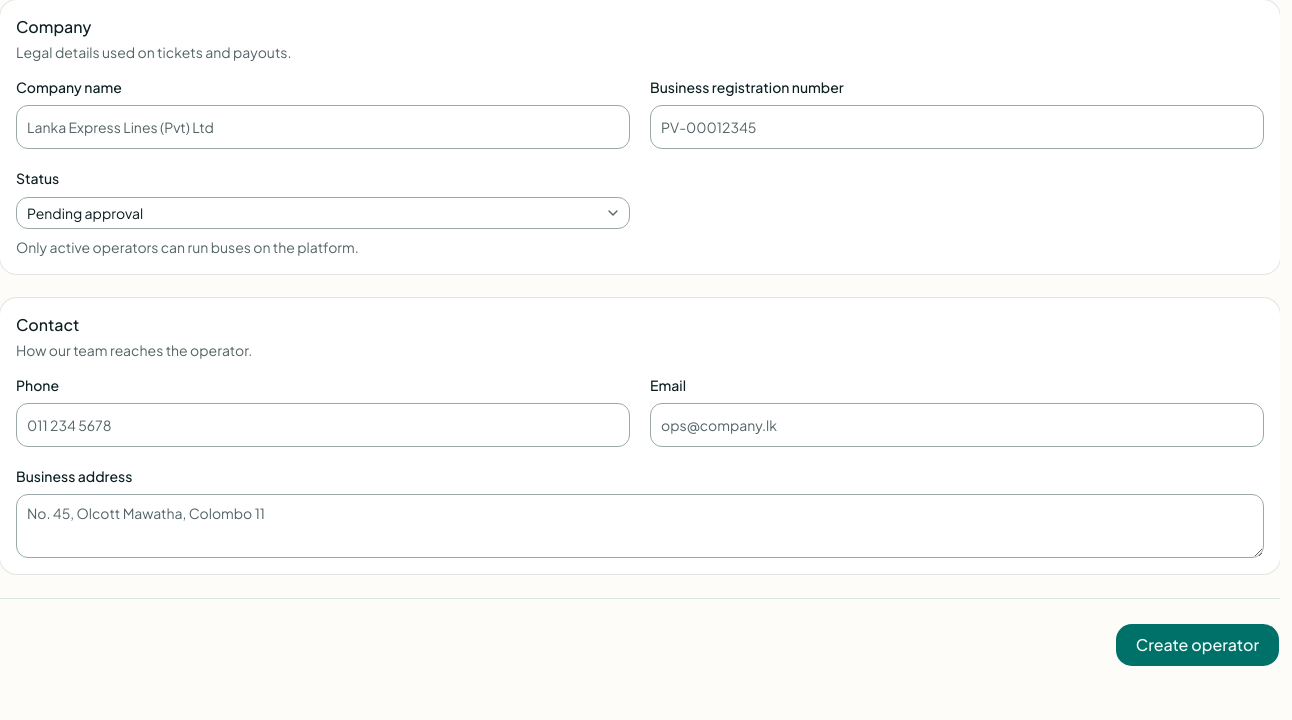
Test case: OperatorForm › shows API validation errors next to the right field
Type "Sunrise Travels" into the field labelled "Company name" at coordinates (323, 127), box [16,105,630,149]
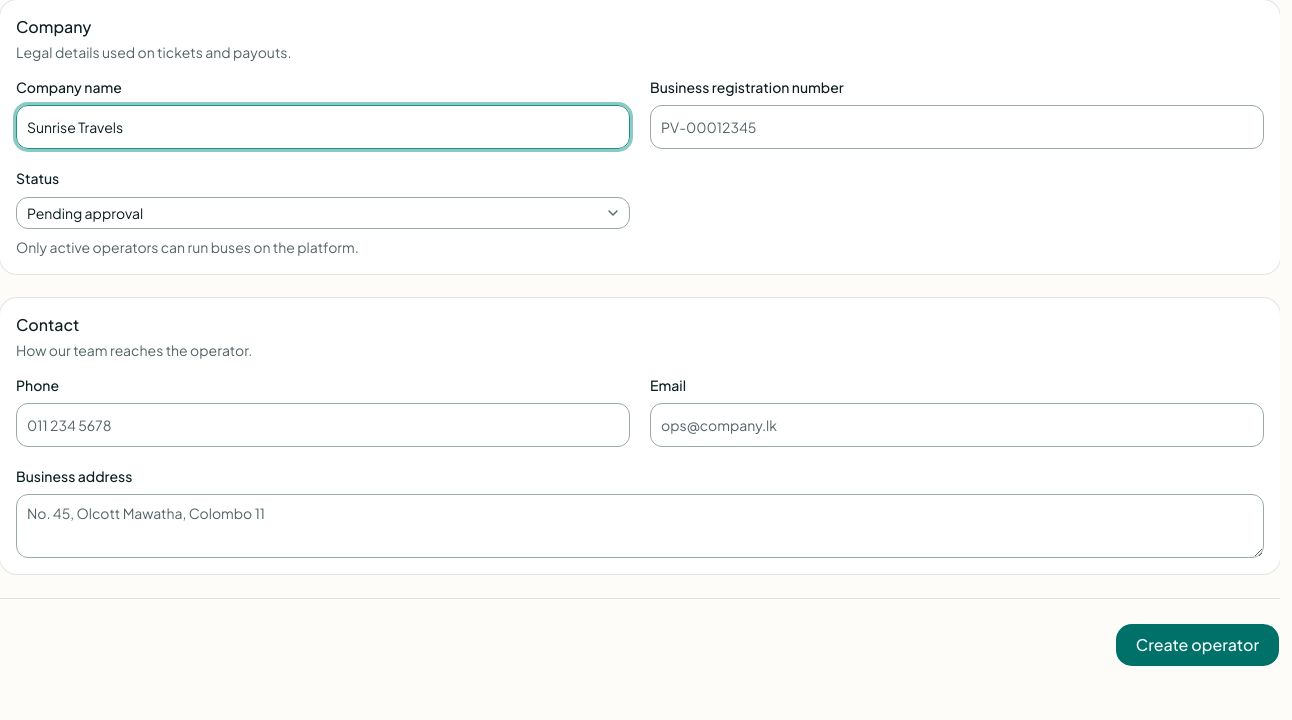
Type "PV-123456" into the field labelled "Business registration number" at coordinates (957, 127), box [650,105,1264,149]
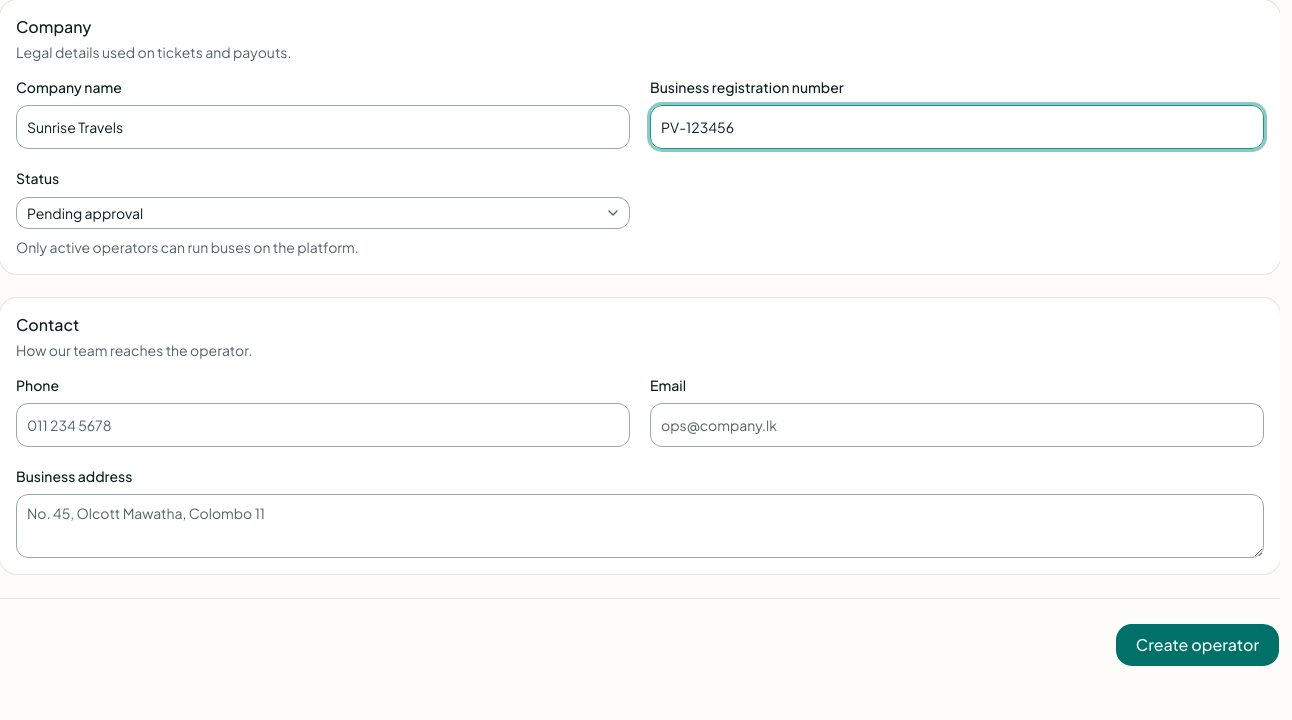
Type "077 123 4567" into the field labelled "Phone" at coordinates (323, 425), box [16,403,630,447]
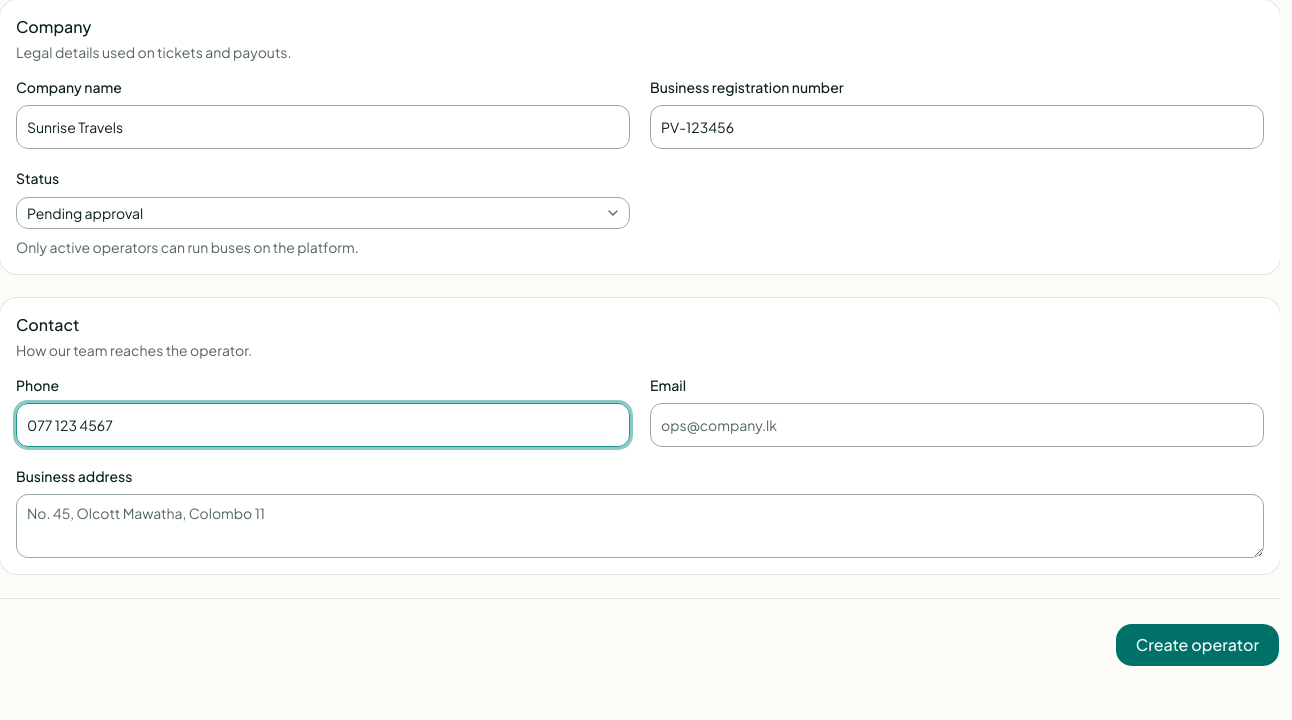
Type "Ops@Sunrise.example" into the field labelled "Email" at coordinates (957, 425), box [650,403,1264,447]
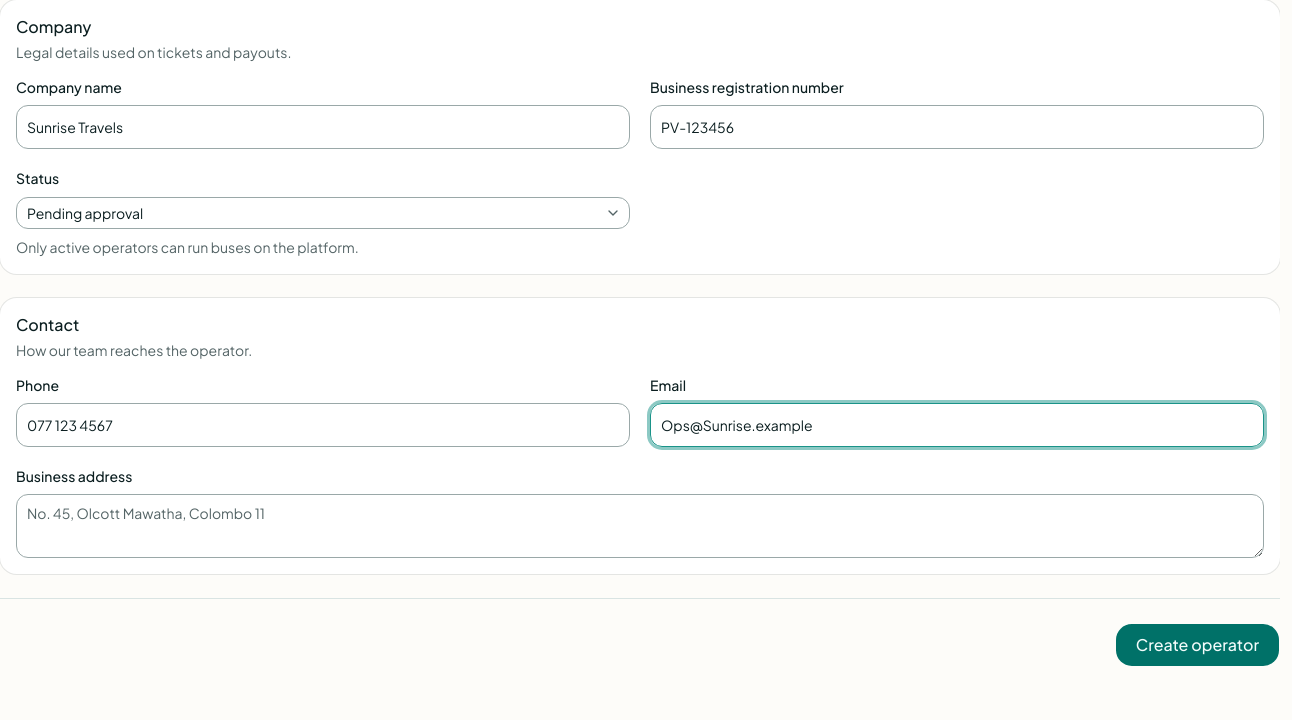
Type "12 Temple Road, Galle" into the text box labelled "Business address" at coordinates (640, 526), box [16,494,1264,558]
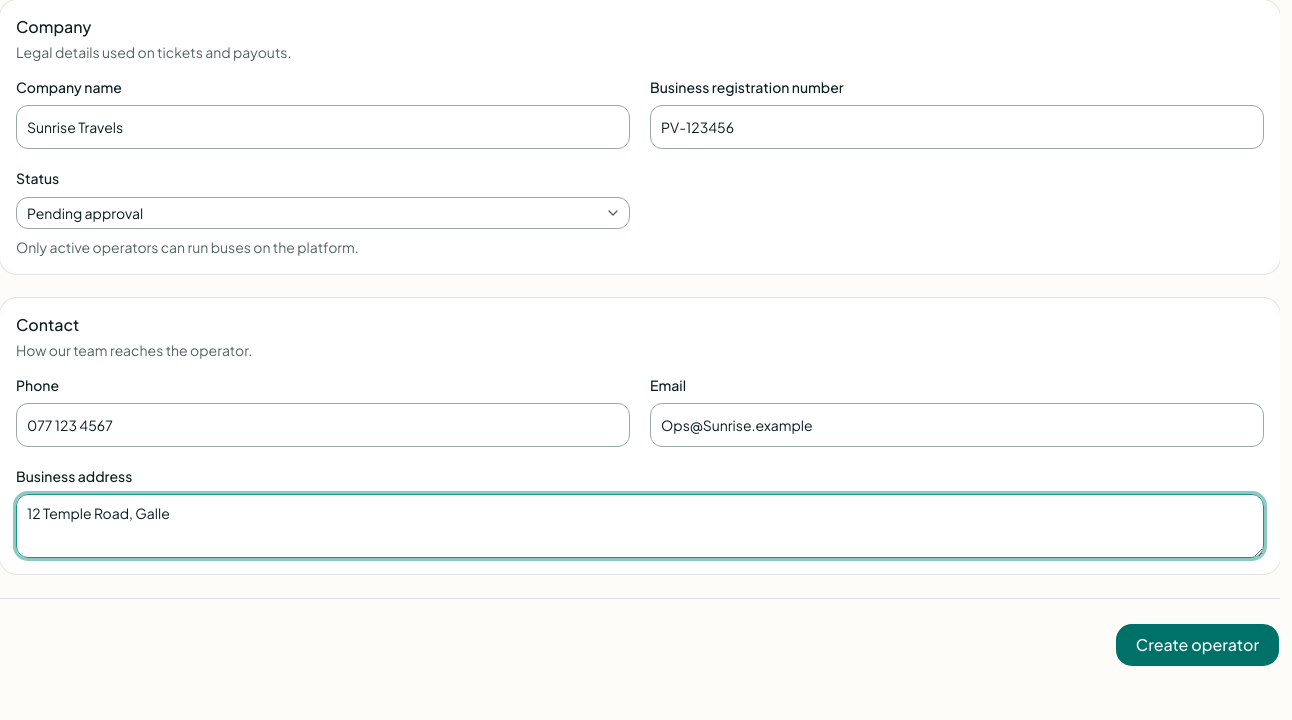
Click the button "Create operator" at coordinates (1197, 645), box [1115,623,1280,667]
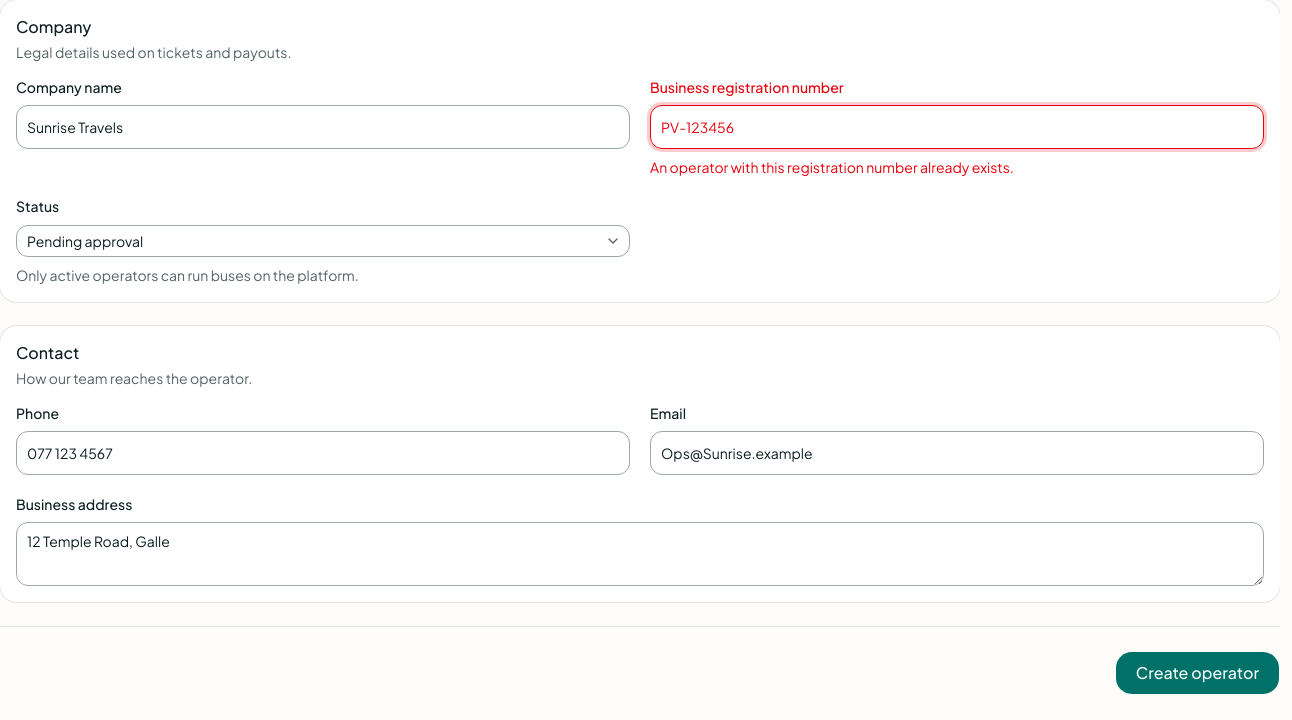
Now the text "An operator with this registration number already exists." is shown, box [650,158,1014,176]
